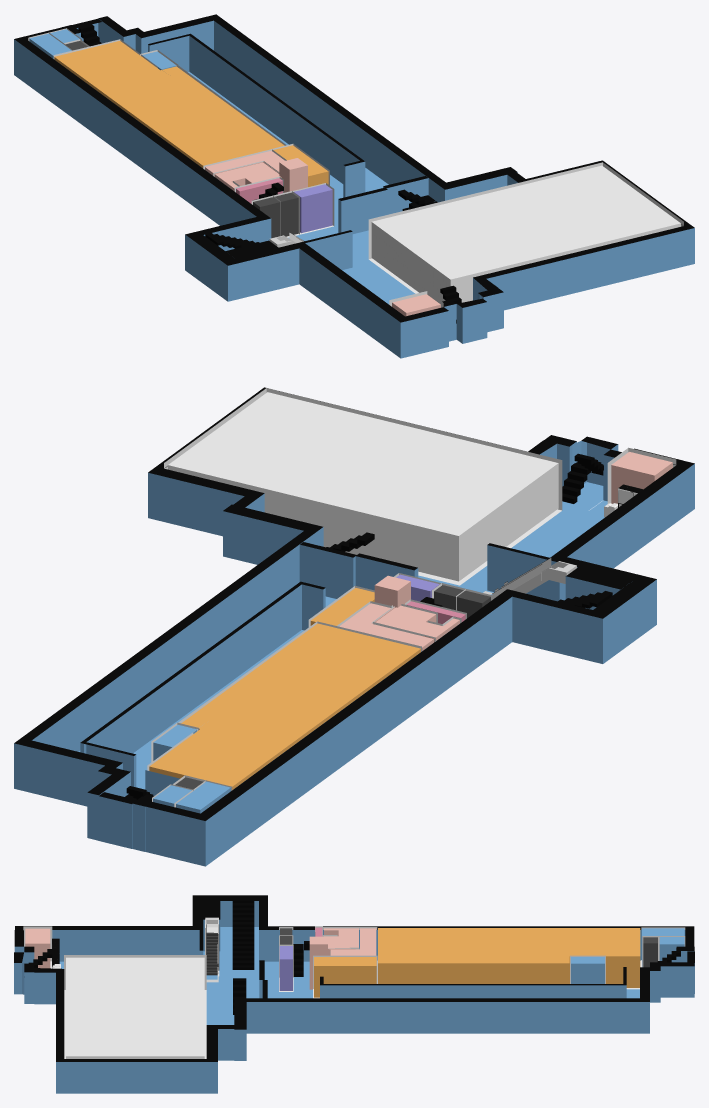
The picture shows the model from 3 angles, top to bottom: view 1: azimuth 30°, elevation 25°; view 2: azimuth 150°, elevation 25°; view 3: azimuth 270°, elevation 25°; orthographic projection. The views are drawn at different scales.
Parts seen in each view (by area): view 1: object, room_10_4_1, object_食堂, object_10_4_1_line, object_10301, エレベーター_10_4_2, トイレ_10_4_3, トイレ_10_4_4, 食堂_10_4_2, トイレ_10_4_2, object_女子トイレ_4_1, object_10_4_2_line (+1 smaller); view 2: object, room_10_4_1, object_食堂, object_10301, トイレ_10_4_2, トイレ_10_4_3, トイレ_10_4_1, エスカレーター_10_4_1, 食堂_10_4_2, 階段_10_4_1, エレベーター_10_4_2, object_10_4_4 (+2 smaller); view 3: object, room_10_4_1, object_食堂, 食堂_10_4_1, 食堂_10_4_2, 階段_10_4_3, object_10301, 食堂_10_4_3, エスカレーター_10_4_1, トイレ_10_4_2, object_10_4_1_line, トイレ_10_4_3 (+8 smaller).
Part boxes in pixels (x1,y1,x2,y2): object: (14, 14, 694, 358); room_10_4_1: (371, 165, 680, 302); object_食堂: (53, 39, 286, 165); object_10_4_1_line: (292, 183, 334, 234); object_10301: (368, 162, 683, 293); エレベーター_10_4_2: (253, 192, 298, 238); トイレ_10_4_3: (214, 162, 281, 191); トイレ_10_4_4: (279, 158, 307, 192); 食堂_10_4_2: (273, 145, 328, 186); トイレ_10_4_2: (392, 294, 440, 316); object_女子トイレ_4_1: (203, 149, 286, 172); object_10_4_2_line: (234, 176, 283, 203); object: (14, 387, 694, 866); room_10_4_1: (168, 392, 558, 581); object_食堂: (147, 621, 421, 786); object_10301: (164, 388, 562, 585); トイレ_10_4_2: (611, 452, 672, 503); トイレ_10_4_3: (375, 605, 459, 642); トイレ_10_4_1: (339, 603, 433, 650); エスカレーター_10_4_1: (483, 557, 576, 599); 食堂_10_4_2: (310, 588, 374, 625); 階段_10_4_1: (562, 453, 603, 503); エレベーター_10_4_2: (434, 585, 490, 618); object_10_4_4: (176, 781, 230, 813); object: (14, 895, 694, 1093); room_10_4_1: (66, 957, 204, 1058); object_食堂: (377, 928, 641, 989); 食堂_10_4_1: (378, 963, 569, 983); 食堂_10_4_2: (314, 957, 376, 997); 階段_10_4_3: (232, 898, 254, 969); object_10301: (64, 955, 206, 1058); 食堂_10_4_3: (571, 957, 604, 983); エスカレーター_10_4_1: (205, 917, 219, 982); トイレ_10_4_2: (25, 928, 50, 968); object_10_4_1_line: (279, 944, 293, 991); トイレ_10_4_3: (324, 928, 358, 949).
Size of the model in its own units: 1.57 by 0.242 by 2.71.
43 materials, 7 textured.
